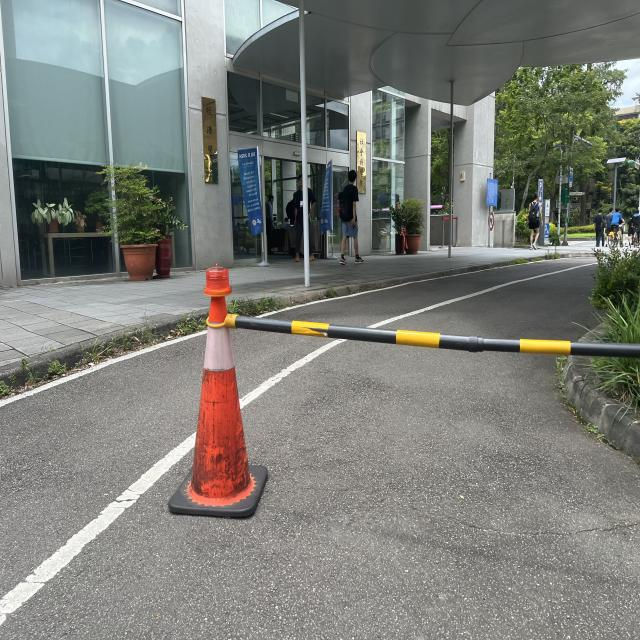cone: (172, 258, 273, 520)
